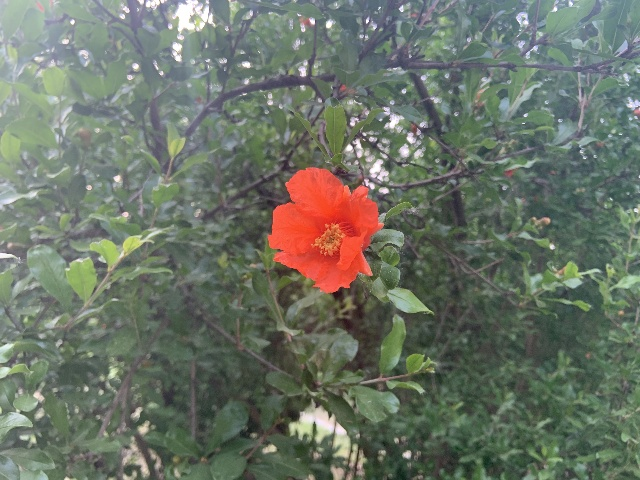flower: (267, 167, 383, 293)
